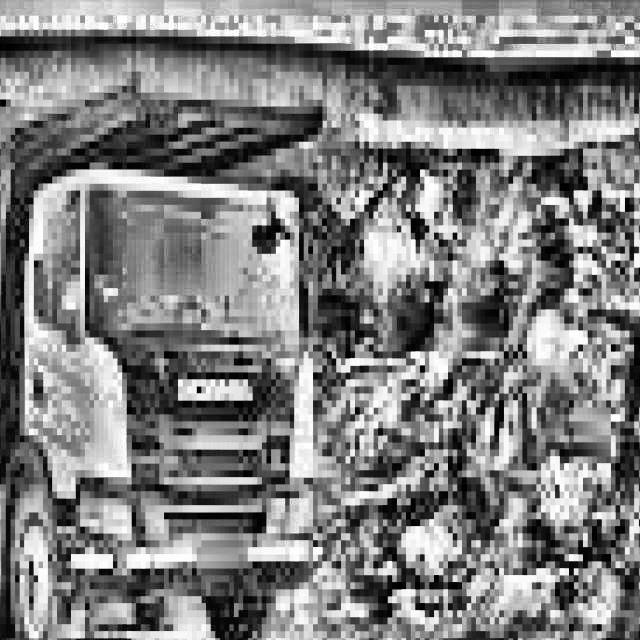dump_truck: (0, 85, 334, 640)
